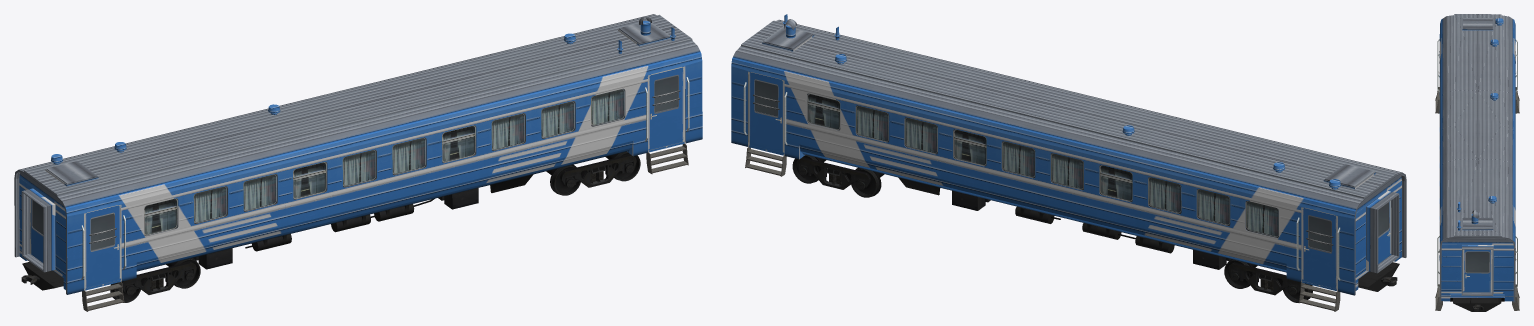
Rendered from Train02vip_1Passenger.FBX.
3 renders of one model, left to right at view 1: azimuth 30°, elevation 25°; view 2: azimuth 150°, elevation 25°; view 3: azimuth 270°, elevation 25°, orthographic. The views are drawn at different scales.
Parts seen in each view (by area): view 1: Train02vip_1Passenger, Train02vip_1WheelsPas, Train02vip_Stairs, Train02vip_1Wheel03Pas; view 2: Train02vip_1Passenger, Train02vip_1WheelsPas, Train02vip_Stairs, Train02vip_1Wheel03Pas; view 3: Train02vip_1Passenger, Train02vip_1WheelsPas, Train02vip_Stairs.
Boxes of the visible parts, x1,y1,x2,y2 form: Train02vip_1Passenger: (14, 14, 702, 294); Train02vip_1WheelsPas: (21, 154, 636, 294); Train02vip_Stairs: (82, 143, 688, 311); Train02vip_1Wheel03Pas: (546, 164, 581, 195); Train02vip_1Passenger: (731, 14, 1406, 295); Train02vip_1WheelsPas: (796, 157, 1399, 295); Train02vip_Stairs: (745, 147, 1340, 311); Train02vip_1Wheel03Pas: (850, 167, 884, 197); Train02vip_1Passenger: (1437, 14, 1517, 302); Train02vip_1WheelsPas: (1453, 298, 1501, 311); Train02vip_Stairs: (1435, 87, 1519, 310).
Bounding box in the file's own units: 1348 × 277 × 206.
